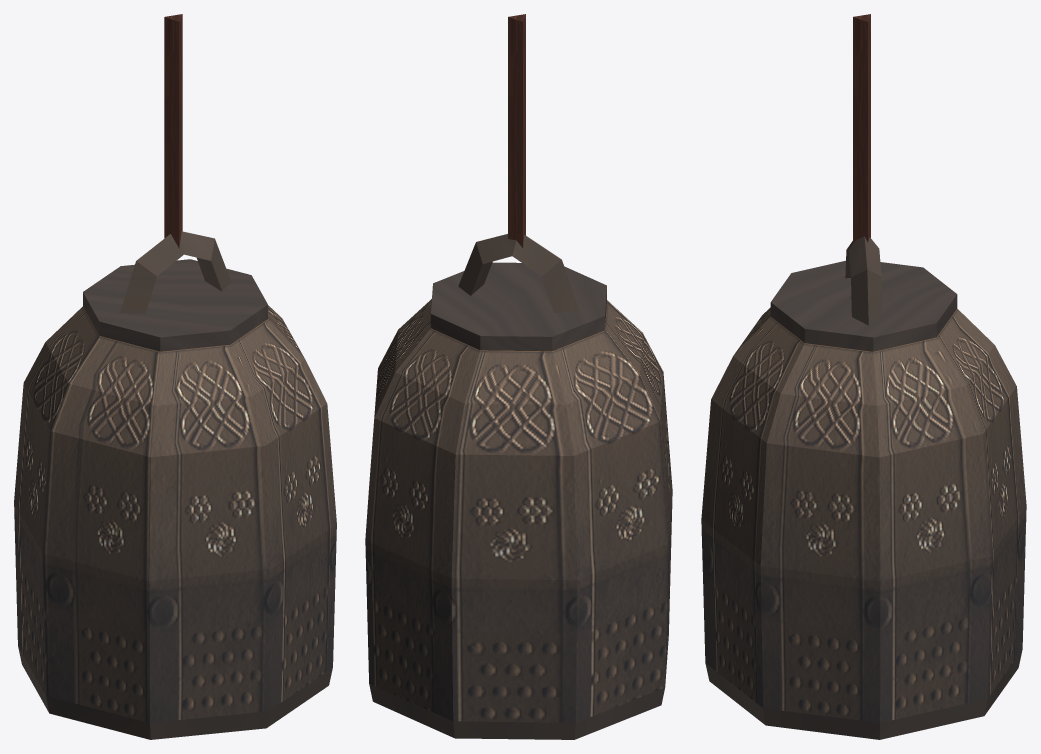
File: Bell_Art.fbx
The picture shows the model from 3 angles, left to right: view 1: azimuth 30°, elevation 25°; view 2: azimuth 150°, elevation 25°; view 3: azimuth 270°, elevation 25°; orthographic projection.
Visible parts, largest first — view 1: Bell_Art; view 2: Bell_Art; view 3: Bell_Art.
Boxes of the visible parts, <box> form: Bell_Art: <box>14,14,336,739</box>; Bell_Art: <box>365,14,672,739</box>; Bell_Art: <box>701,14,1026,739</box>.
Bounding box in the file's own units: 1.05 × 2.34 × 1.05.
